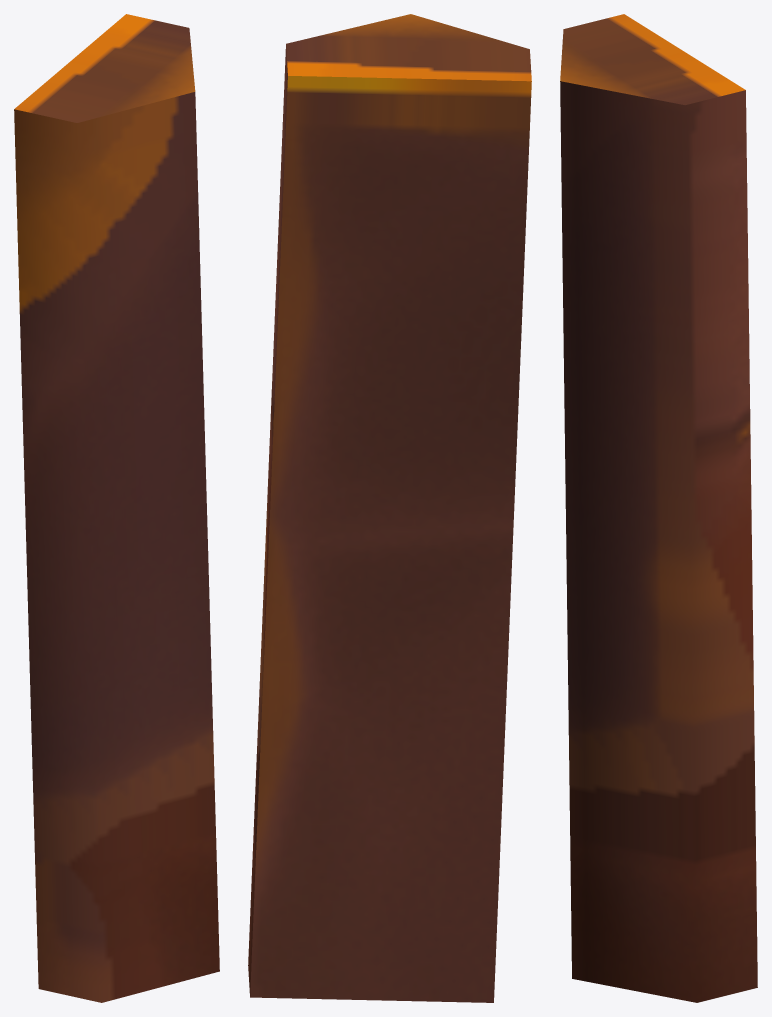
3 renders of one model, left to right at view 1: azimuth 30°, elevation 25°; view 2: azimuth 150°, elevation 25°; view 3: azimuth 270°, elevation 25°, orthographic. The views are drawn at different scales.
Parts seen in each view (by area): view 1: polySurface66; view 2: polySurface66; view 3: polySurface66.
Boxes of the visible parts, x1=… form: polySurface66: x1=14, y1=14, x2=219, y2=1002; polySurface66: x1=248, y1=14, x2=531, y2=1002; polySurface66: x1=560, y1=14, x2=757, y2=1002.
Size of the model in its own units: 24.62 by 89.48 by 17.99.
